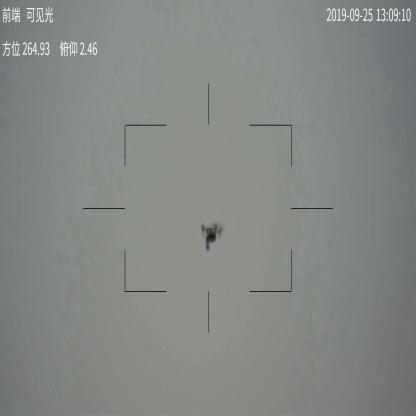uav: (200, 220, 223, 253)
